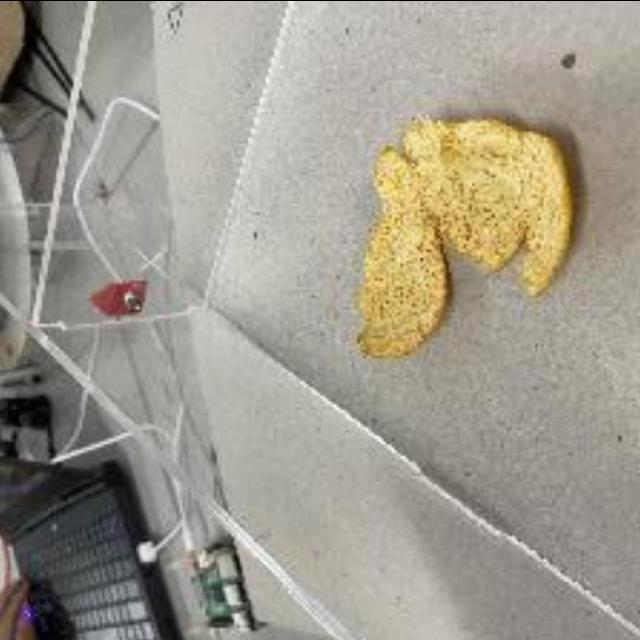orange peel: (353, 99, 571, 369)
